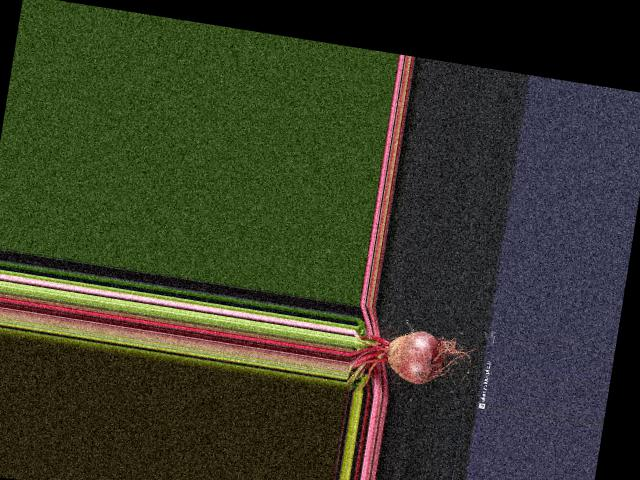beet: (345, 320, 480, 410)
